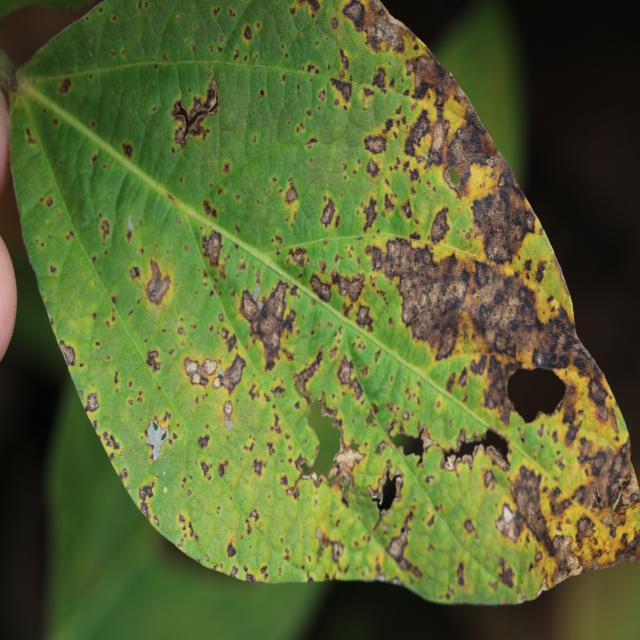Bacterial_Blight: (198, 223, 311, 372), (358, 73, 447, 221), (374, 236, 466, 347), (481, 463, 552, 588), (449, 251, 536, 349), (182, 422, 251, 545), (550, 364, 626, 461), (565, 492, 640, 573), (467, 181, 537, 260), (528, 243, 576, 339), (23, 184, 78, 267), (577, 442, 636, 516), (107, 362, 163, 435), (182, 342, 249, 402), (410, 54, 466, 123), (348, 1, 402, 56), (262, 484, 301, 554), (134, 257, 174, 321), (142, 411, 179, 473), (386, 518, 423, 577), (460, 161, 498, 204), (95, 425, 124, 467), (200, 228, 224, 267), (337, 272, 365, 305), (176, 509, 198, 548), (280, 178, 301, 214), (342, 2, 367, 31), (138, 484, 156, 524), (329, 77, 353, 106), (320, 196, 340, 230), (363, 131, 388, 155), (219, 324, 238, 354), (58, 340, 77, 367), (145, 348, 162, 372), (289, 246, 308, 267), (356, 305, 372, 328), (371, 66, 387, 89), (366, 157, 381, 179), (84, 392, 99, 413), (99, 218, 111, 242), (252, 457, 266, 476), (58, 77, 72, 94), (121, 141, 134, 159), (25, 126, 37, 145), (217, 459, 229, 477), (200, 460, 212, 478), (197, 433, 210, 449), (42, 194, 55, 207), (243, 25, 253, 41), (130, 265, 140, 279), (90, 152, 99, 166), (257, 89, 266, 100), (223, 162, 231, 174), (252, 135, 256, 142)
Soybean: (7, 0, 640, 604)
